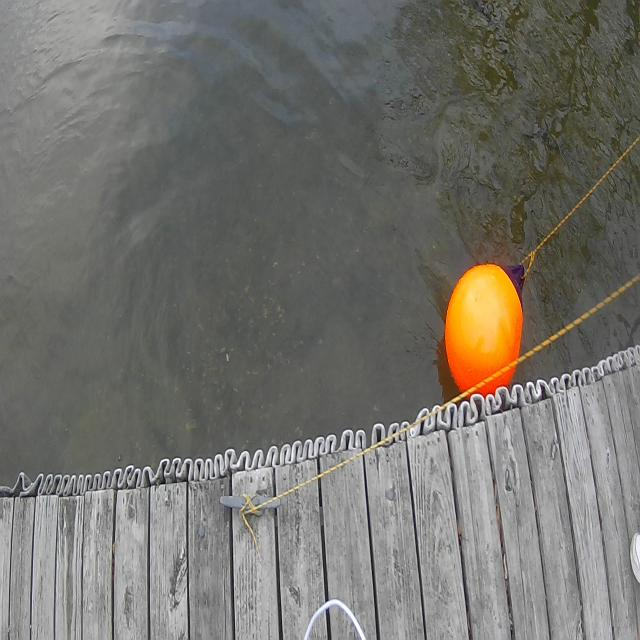Buoy: (439, 256, 529, 410)
